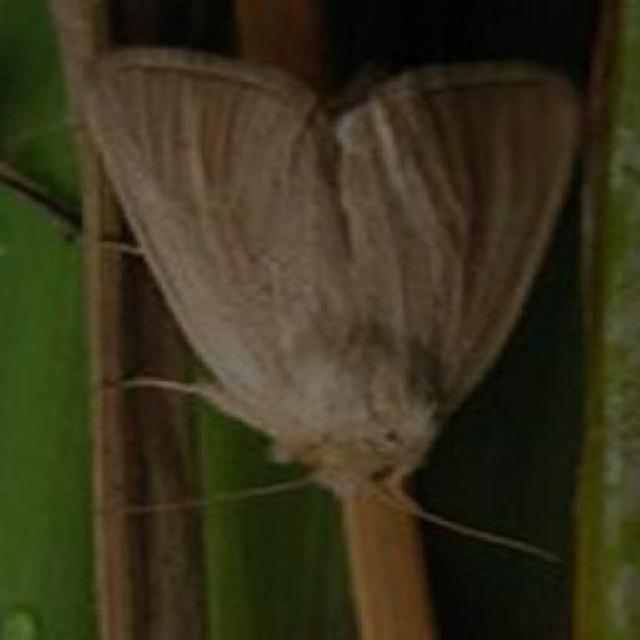stem-borer: (76, 42, 579, 564)
